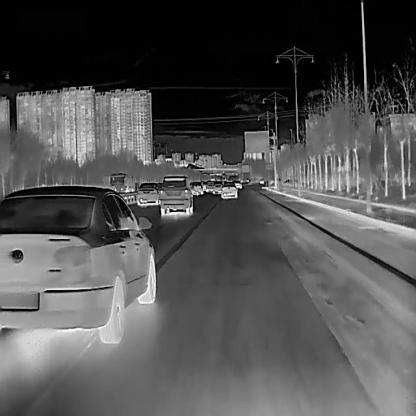car: (0, 184, 155, 342), (158, 174, 192, 214), (136, 180, 160, 206), (220, 180, 236, 198), (188, 180, 203, 194), (203, 180, 214, 192), (213, 180, 223, 192)
truck: (107, 171, 136, 191)
